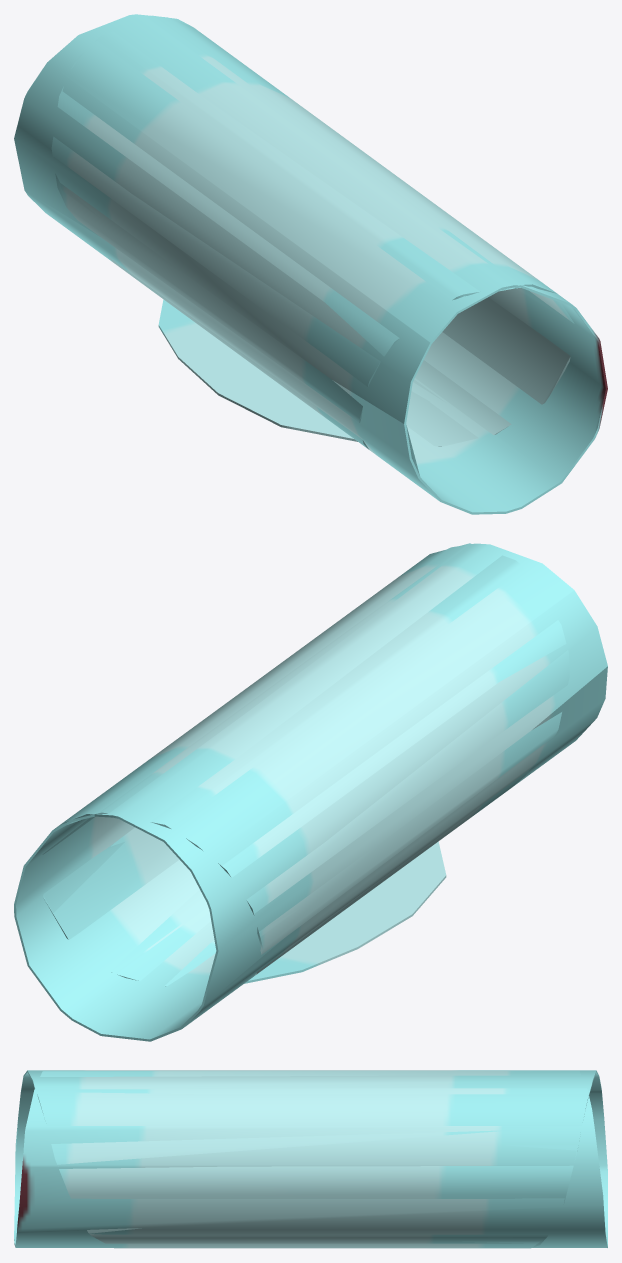
The model's file is Level 167 unroll burger patty on BBQ.fbx.
3 views of the same model, one above another, from view 1: azimuth 30°, elevation 25°; view 2: azimuth 150°, elevation 25°; view 3: azimuth 270°, elevation 25° (orthographic). The views are drawn at different scales.
Parts seen in each view (by area): view 1: Blend; view 2: Blend; view 3: Blend.
Boxes of the visible parts, x1,y1,x2,y2 form: Blend: (14, 14, 607, 514); Blend: (14, 543, 607, 1041); Blend: (14, 1070, 607, 1248).
Size of what is drawn, in the model's own units: 97.51 by 97.5 by 325.
